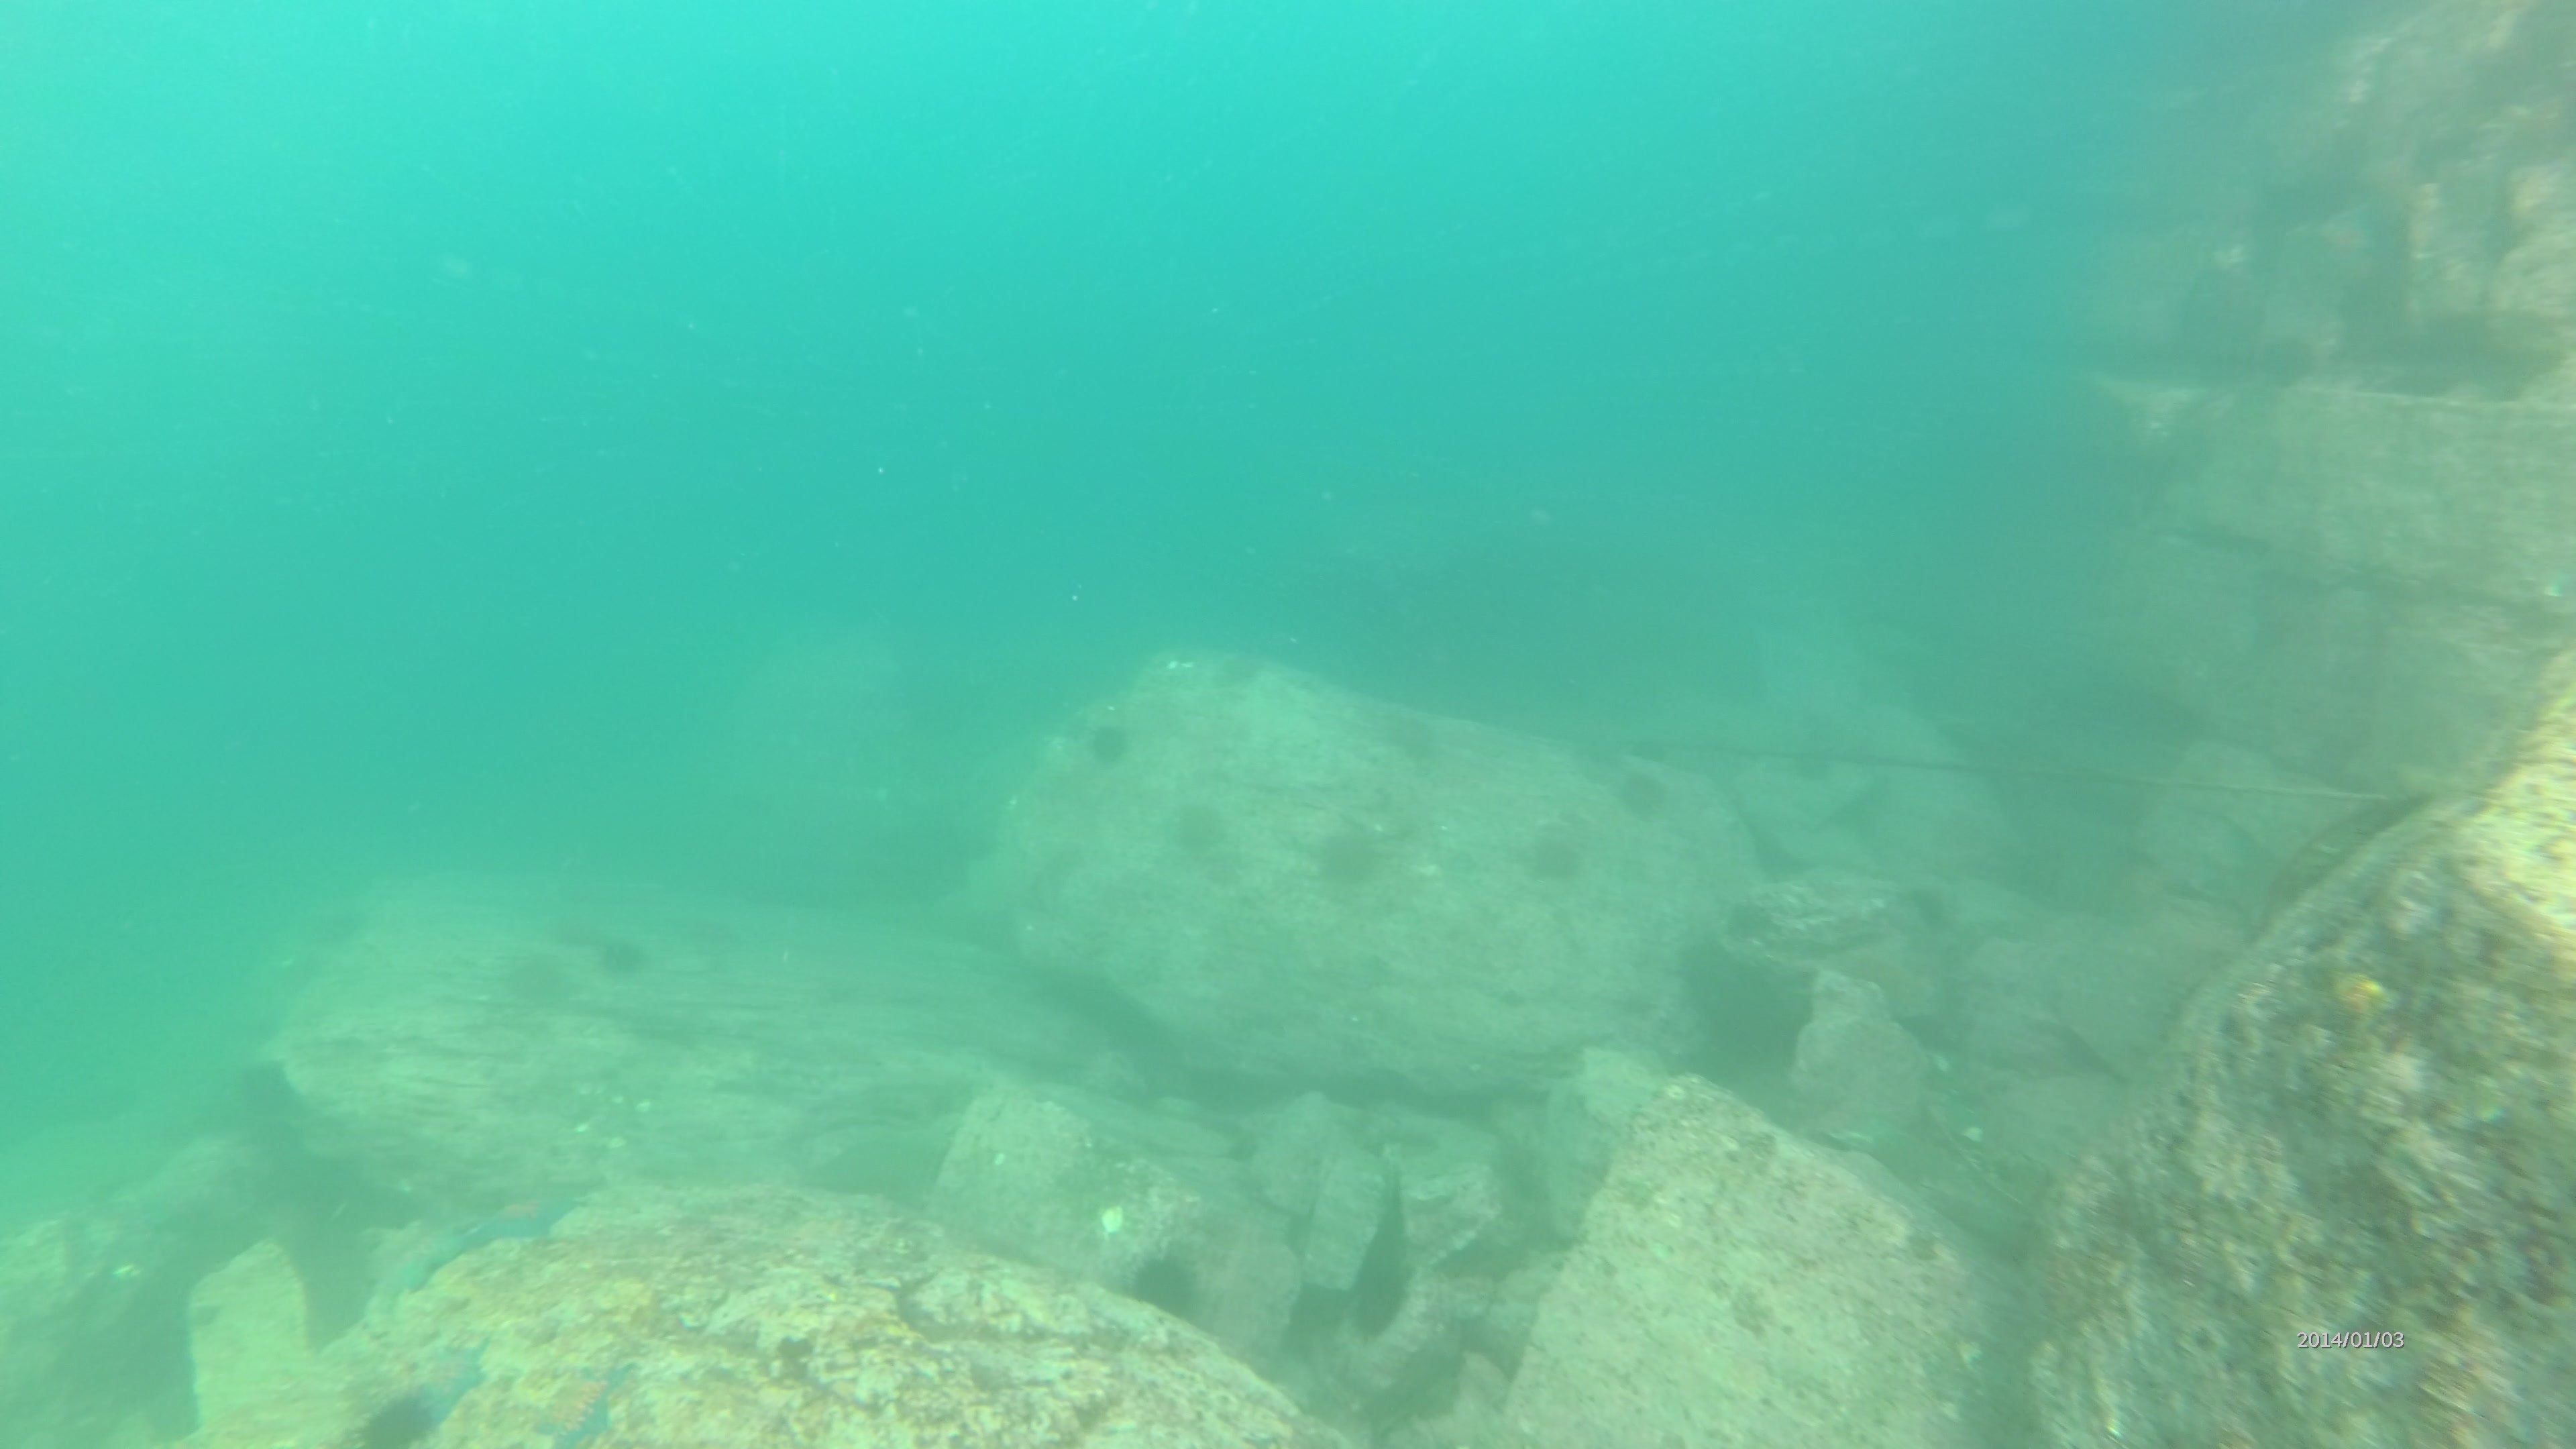echinus: (1318, 816, 1396, 895), (350, 1389, 441, 1449), (1516, 814, 1587, 890), (1384, 695, 1451, 768), (1164, 798, 1235, 860), (596, 924, 656, 989), (304, 895, 375, 947), (1079, 717, 1139, 777), (1621, 763, 1679, 823), (1219, 635, 1272, 699)
starfish: (462, 1185, 591, 1265), (531, 1362, 644, 1449), (368, 1217, 472, 1307), (403, 1341, 494, 1407)
